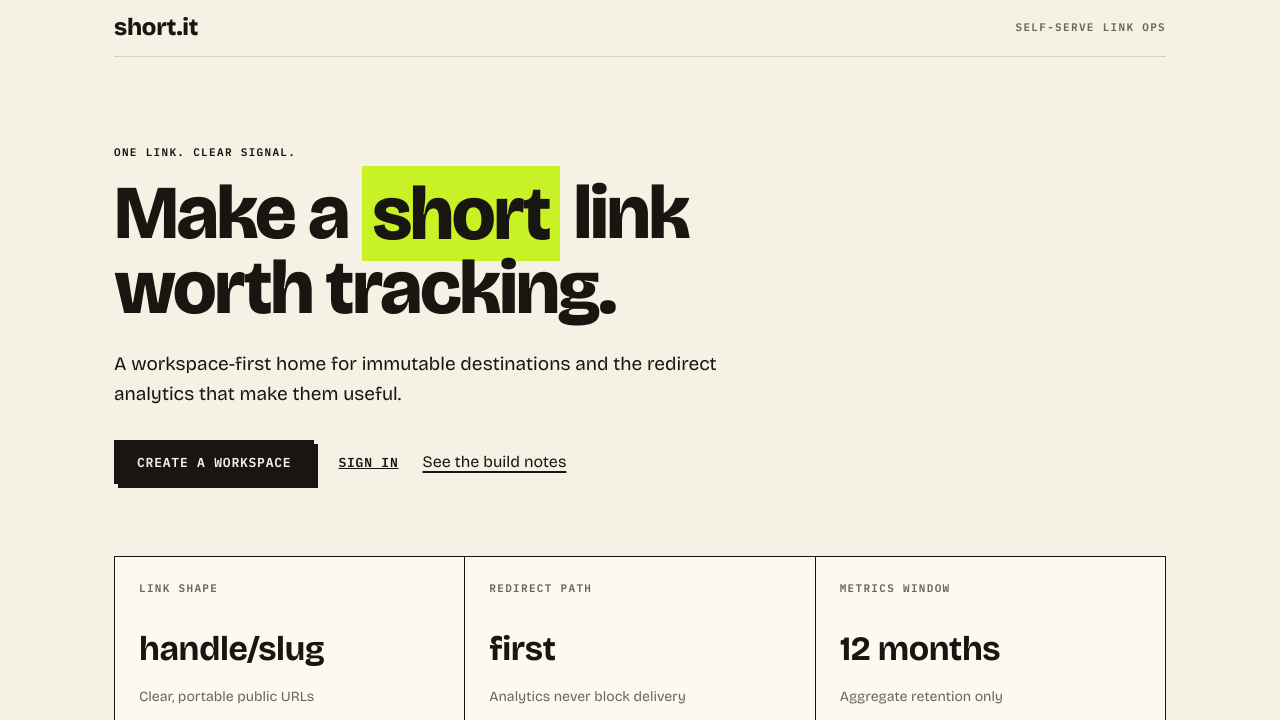
Scenario: App › keeps the sign-in form visible when authentication fails
This screenshot has width=1280, height=720.
Click the button "Sign in" at (369, 462), box left=338, top=440, right=399, bottom=484
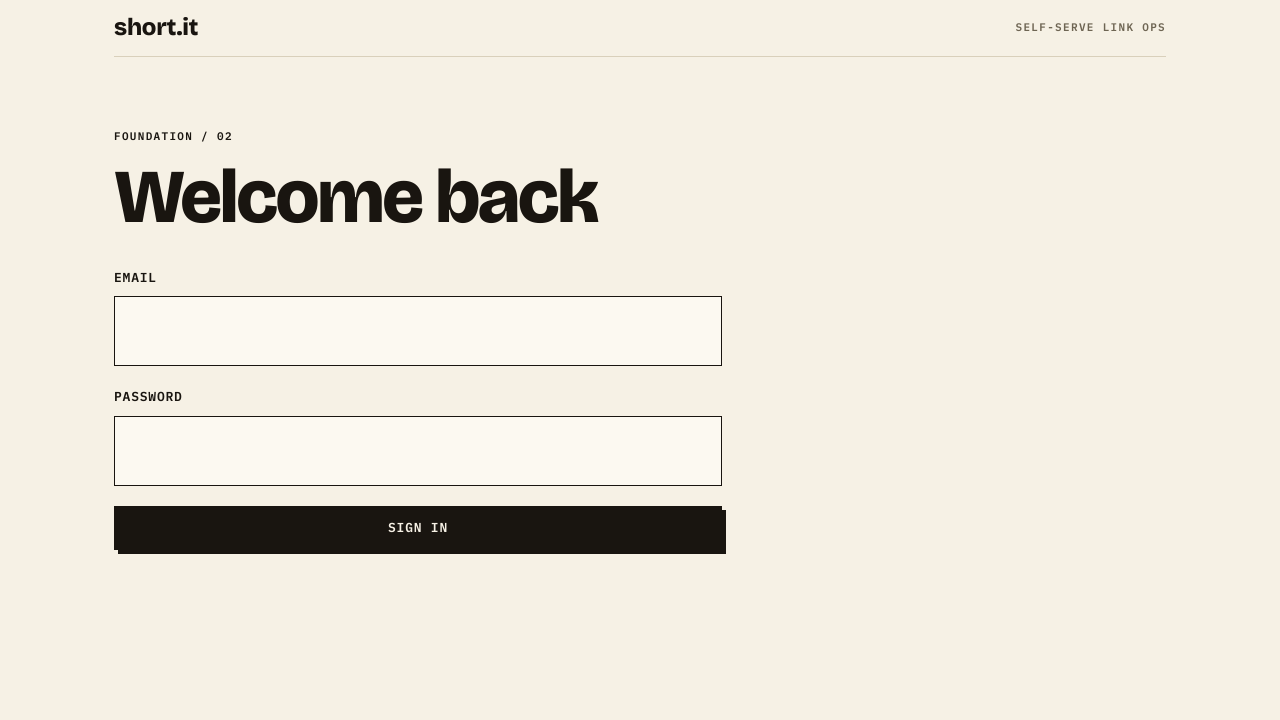
Type "ada@example.test" into the field labelled "Email" at (418, 331), box left=114, top=296, right=722, bottom=366
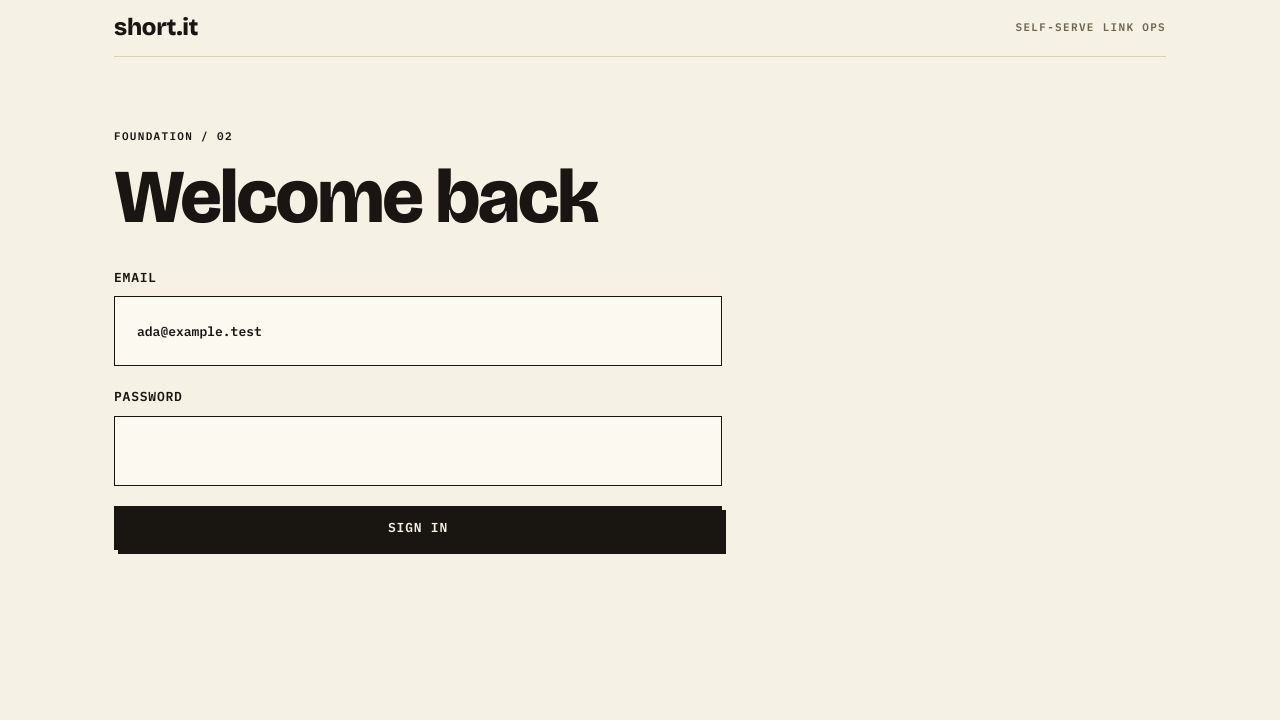
Type "wrong-password" into the password field labelled "Password" at (418, 451), box left=114, top=416, right=722, bottom=486
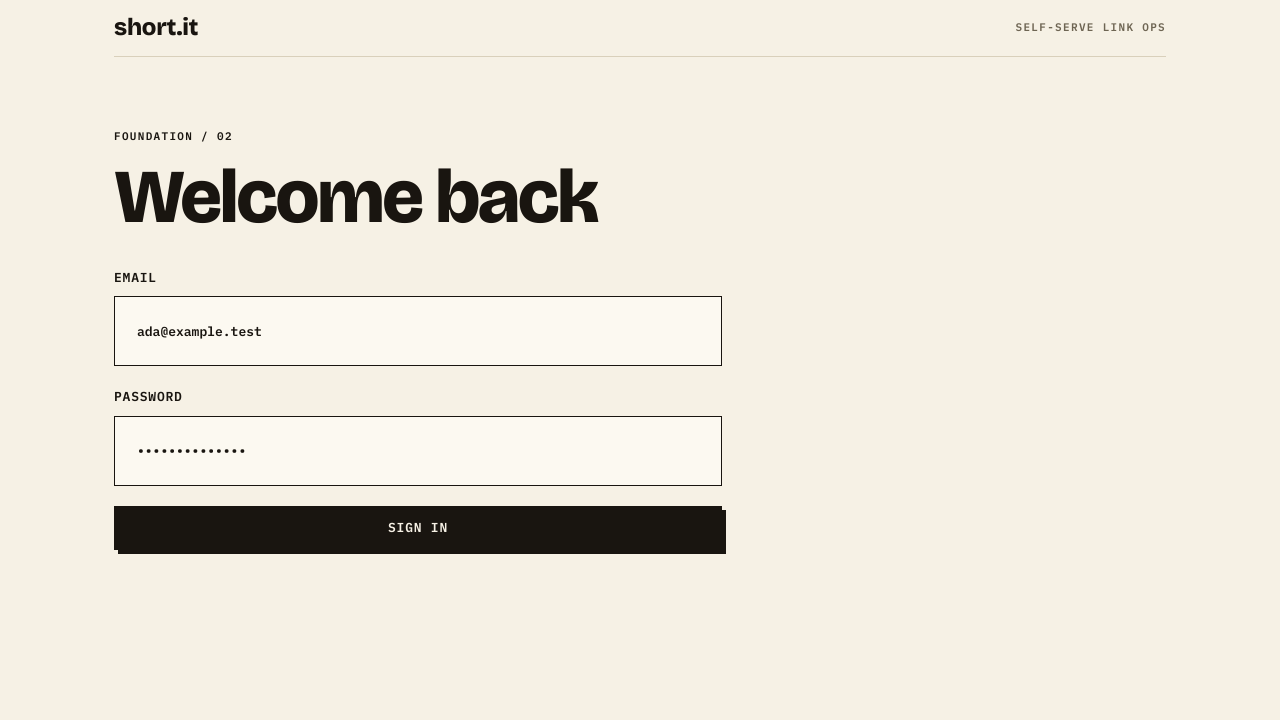
Submit the form "Sign in", box left=114, top=267, right=722, bottom=550
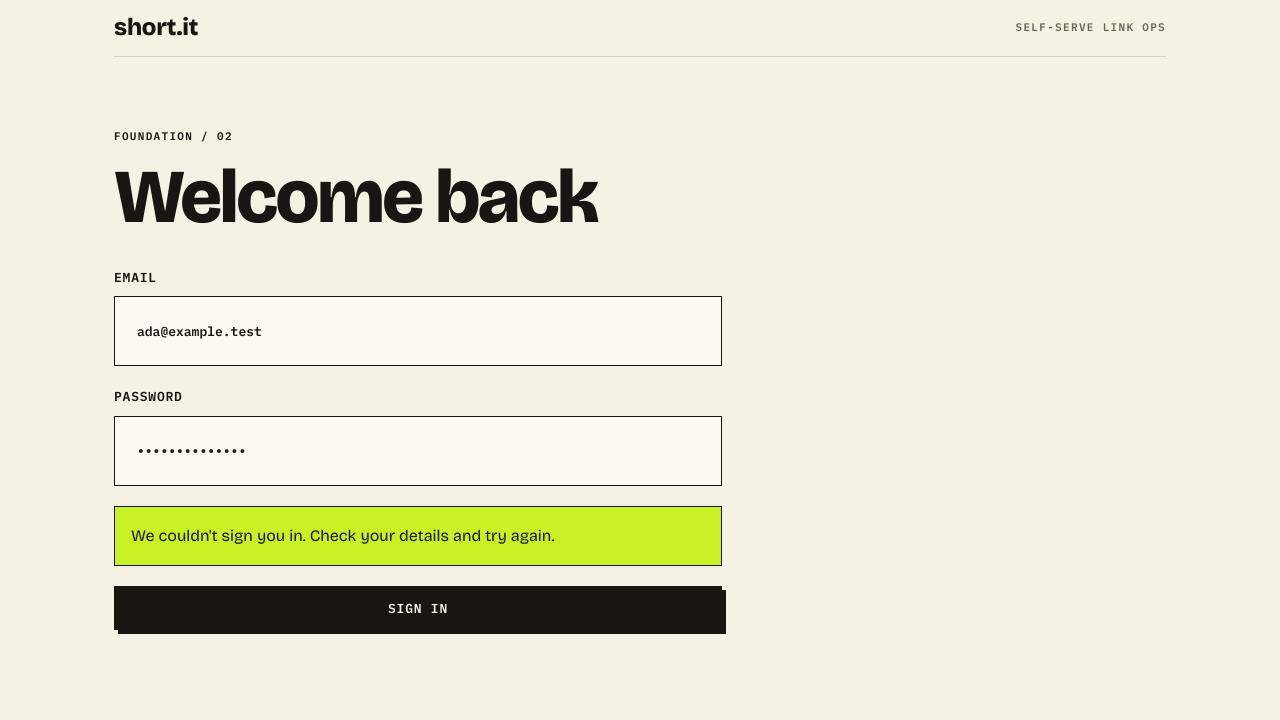
Result: the heading "Welcome back" is shown at left=114, top=151, right=597, bottom=243
Result: the message reads "We couldn't sign you in. Check your details and try again." at left=131, top=526, right=554, bottom=545
